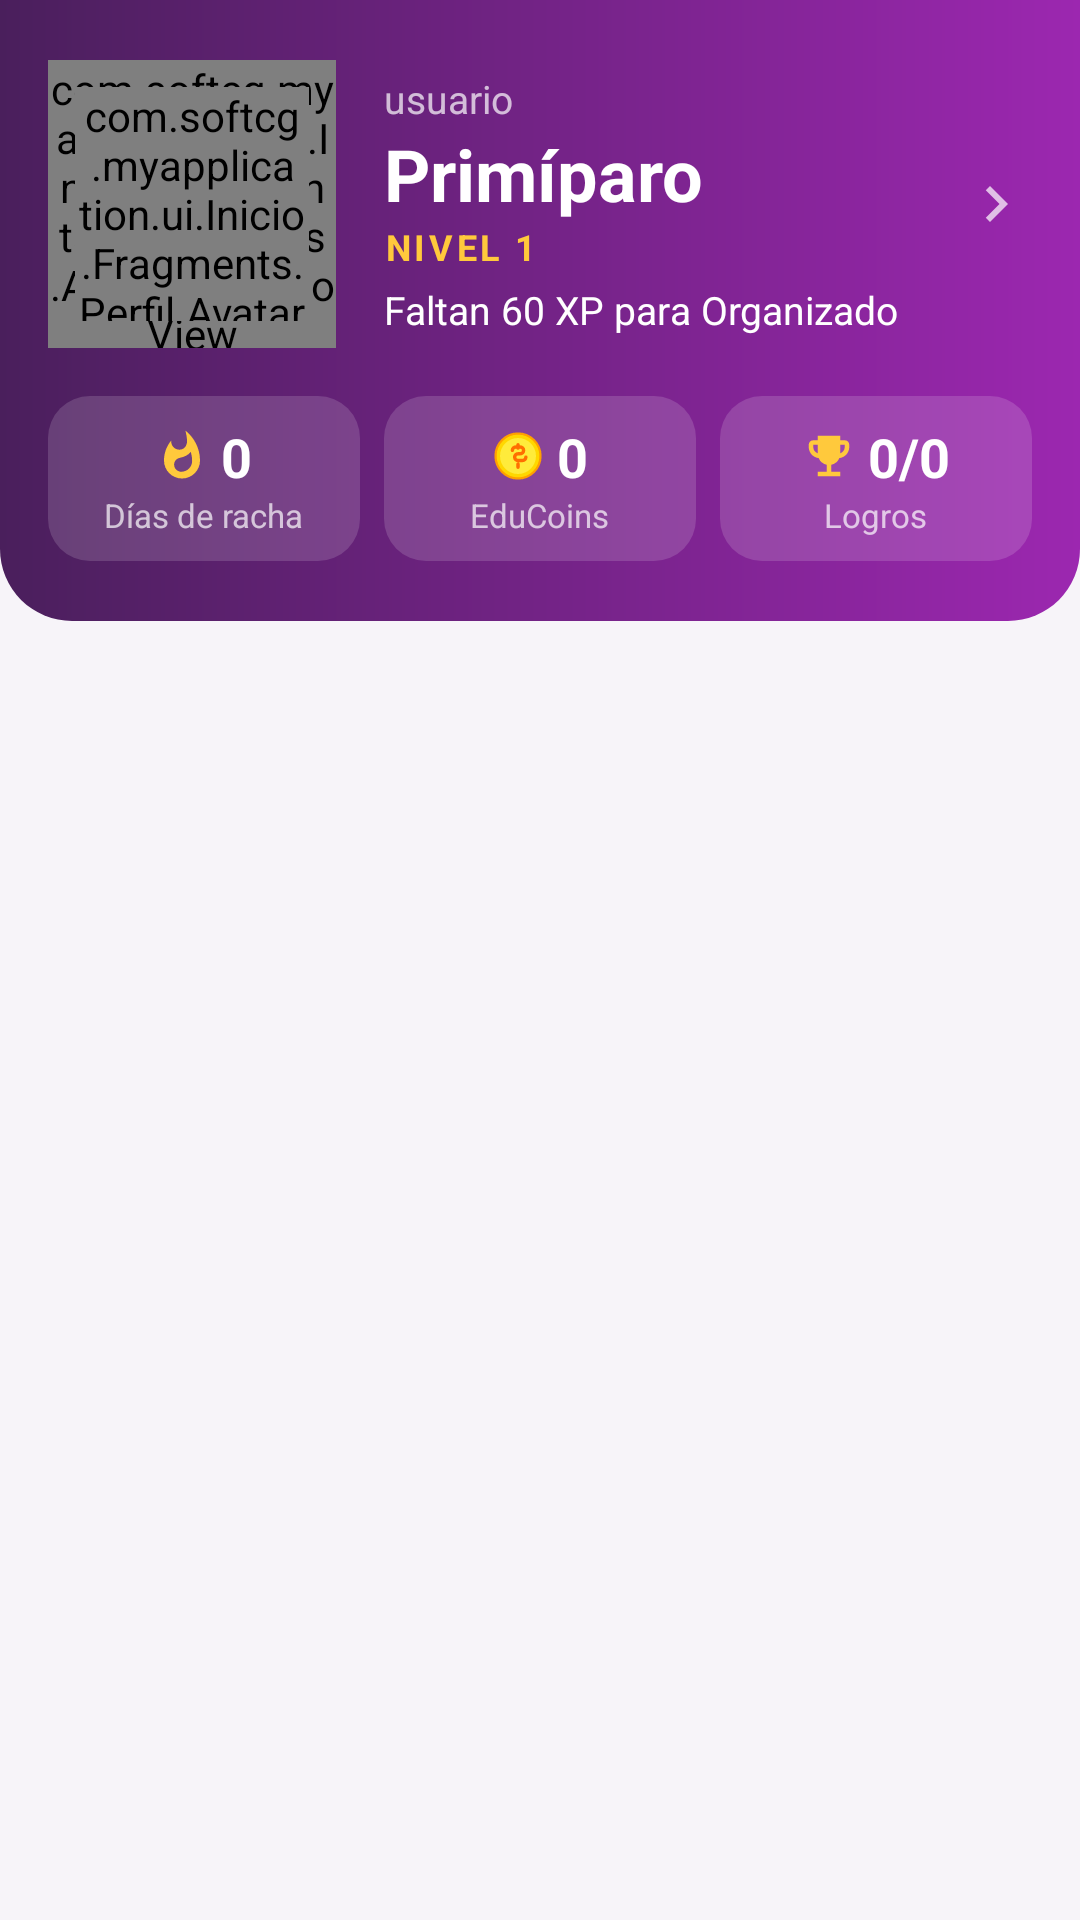

Icons on this 1080*1920 Android screen, each with its box as (x1, y1, x2, y2):
chevron right: (986, 186, 1008, 222)
gami racha: (164, 431, 200, 479)
gami trofeo: (808, 435, 850, 477)
